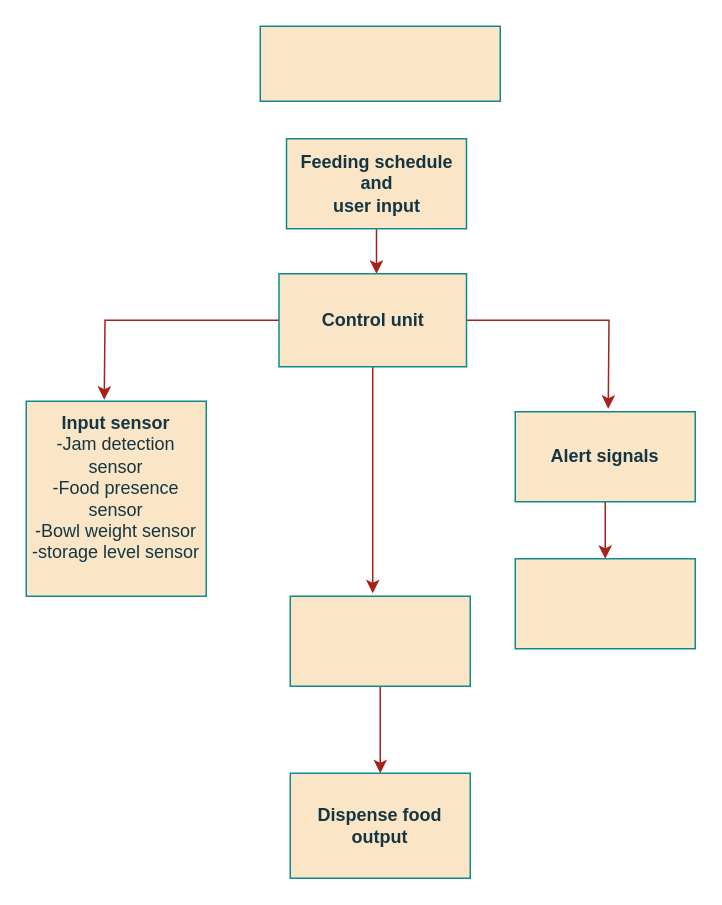
Image size: 722x905. Some labels were removed from this diagram. Here are the shapes that lost their labels. From the top down, the centre of each, then its label:
At [379,63]: "Block-diagram".
At [604,603]: "Indicator and logging unit".
At [379,640]: "Servo motor or Food dispensing unit".
